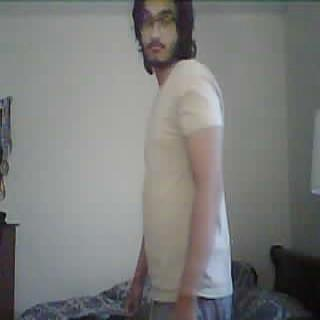Yellow T-Shirt: (134, 60, 242, 300)
